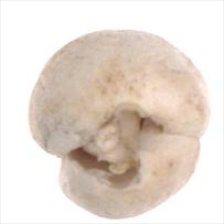L3: (69, 104, 163, 188)
L4: (29, 30, 212, 219)
